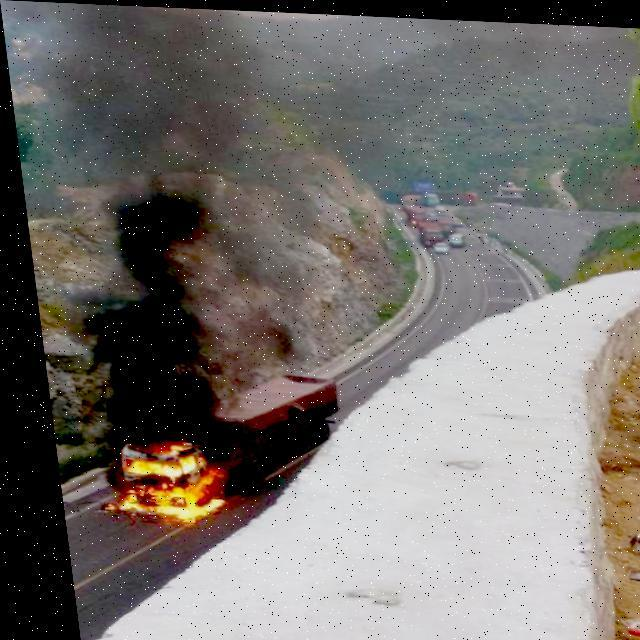Fire: (89, 432, 223, 524)
